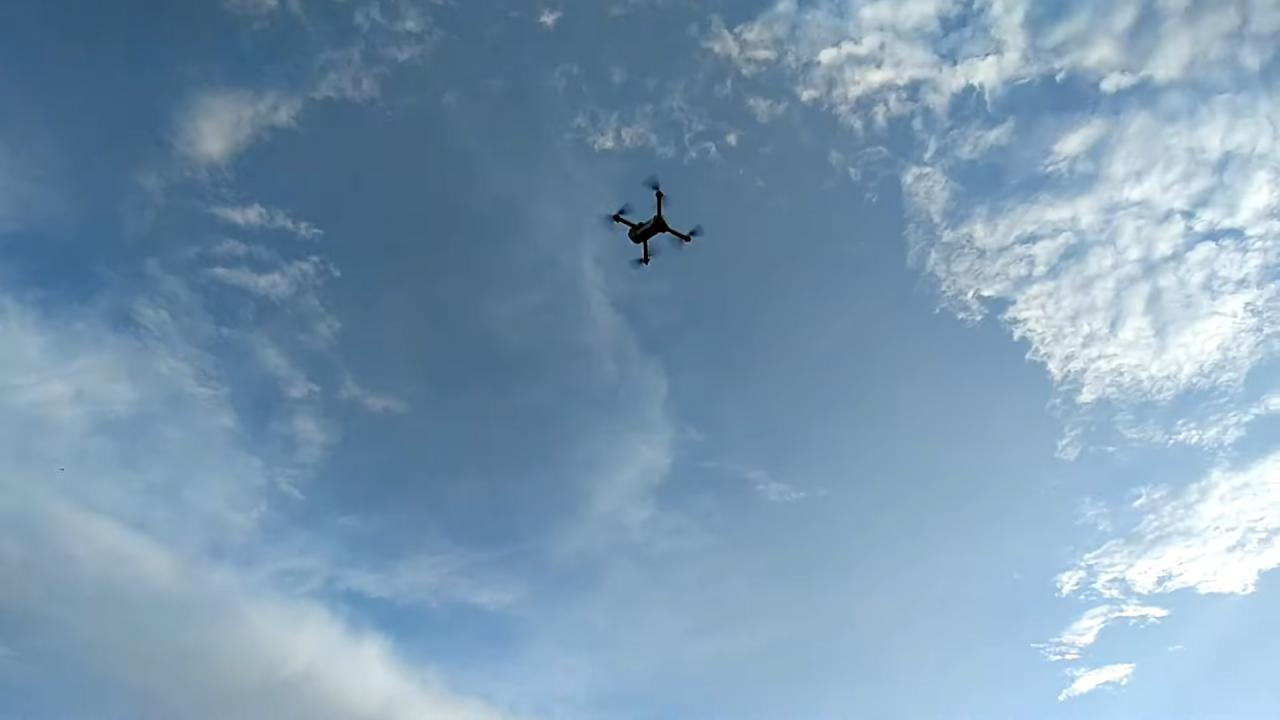Drone: (583, 159, 721, 284)
